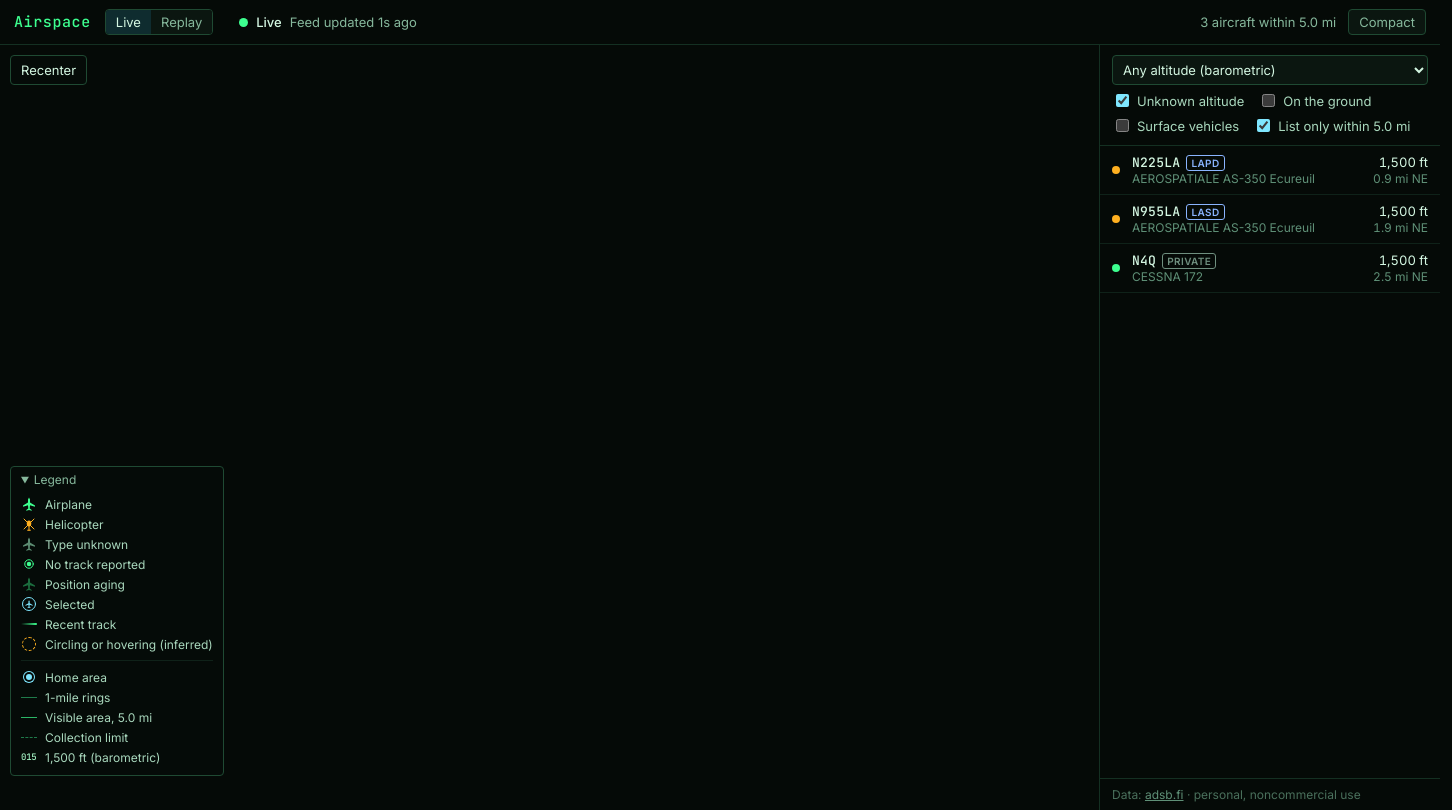
Test case: Operators › tags the list and labels, and explains the identification in the detail panel
Click the button "N225LA LAPD AEROSPATIALE AS-350 Ecureuil 1,500 ft 0.9 mi NE": point(1270, 170) [1100,146,1440,195]
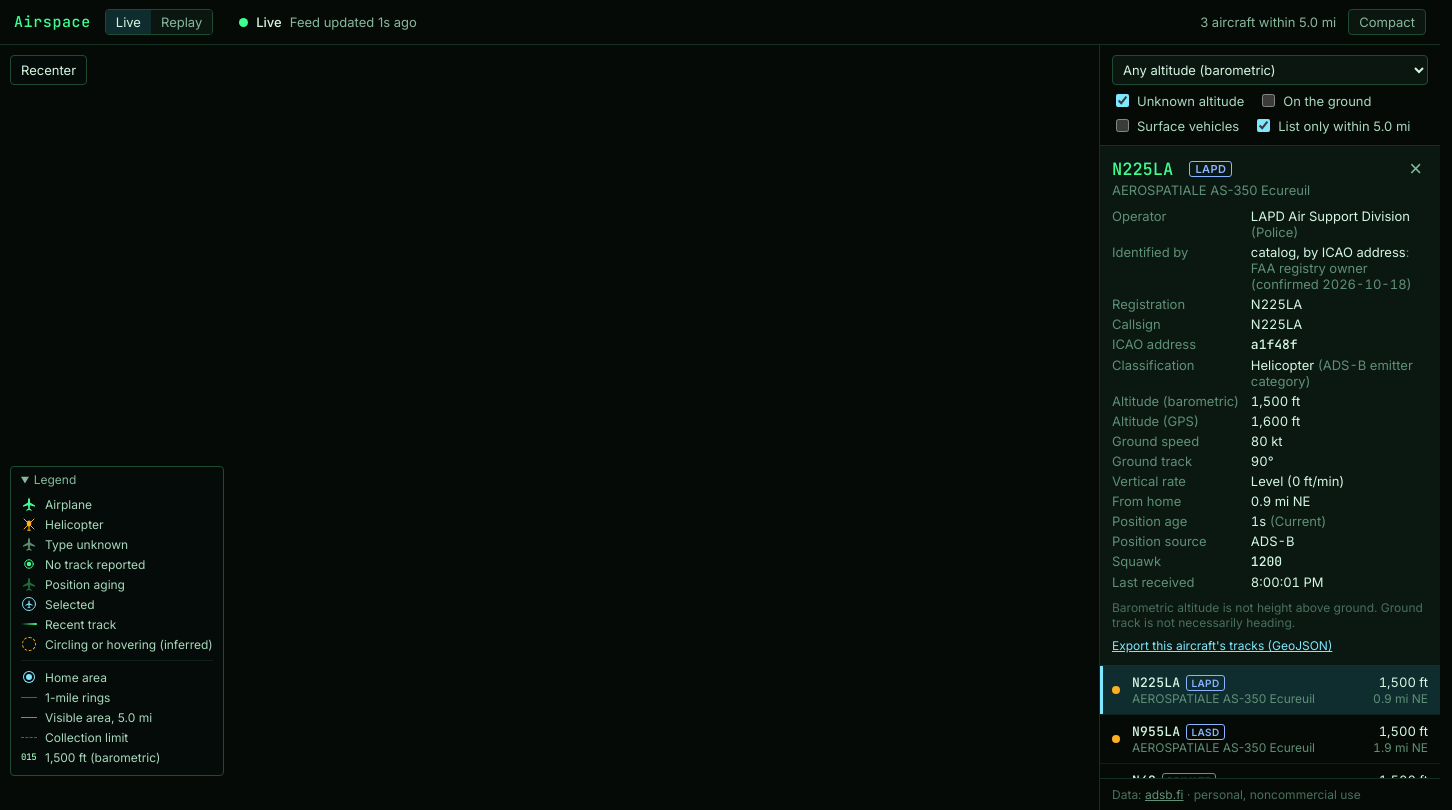
Check: the element with test id "operator" reads "LAPD Air Support Division (Police)", box [1251,208,1428,240]
Check: the element with test id "detail" shows "catalog, by ICAO address: FAA registry owner (confirmed 2026-10-18)", box [1100,146,1440,666]
Click the button "N955LA LASD AEROSPATIALE AS-350 Ecureuil 1,500 ft 1.9 mi NE": point(1270, 740) [1100,715,1440,764]
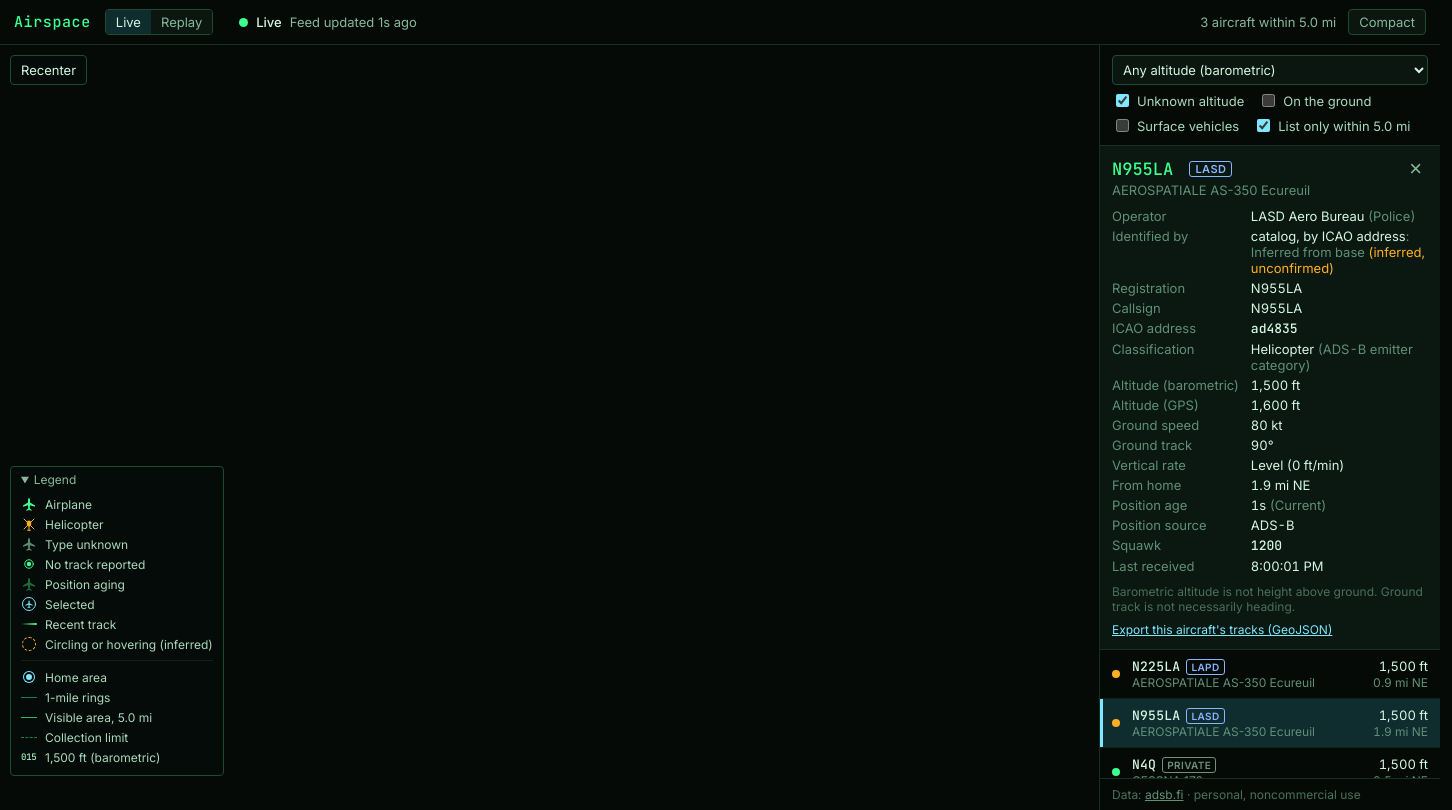
Check: the element with test id "detail" shows "(inferred, unconfirmed)", box [1251,244,1425,276]
Click the button "N4Q Private CESSNA 172 1,500 ft 2.5 mi NE": point(1189, 764) [1100,748,1440,797]
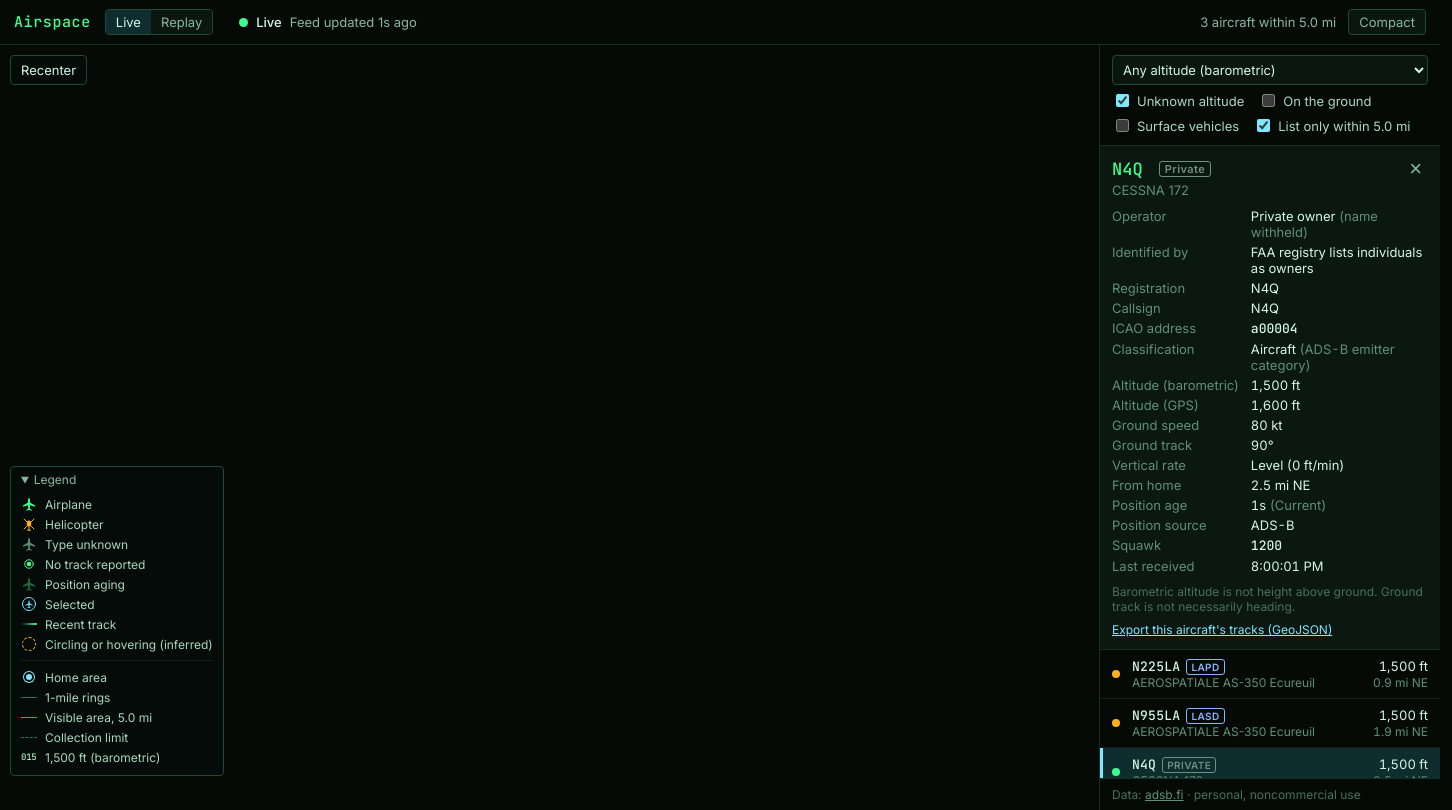
Check: the element with test id "operator" reads "Private owner (name withheld)", box [1251,208,1378,240]
Check: the element with test id "detail" shows "FAA registry lists individuals as owners", box [1251,244,1422,276]
